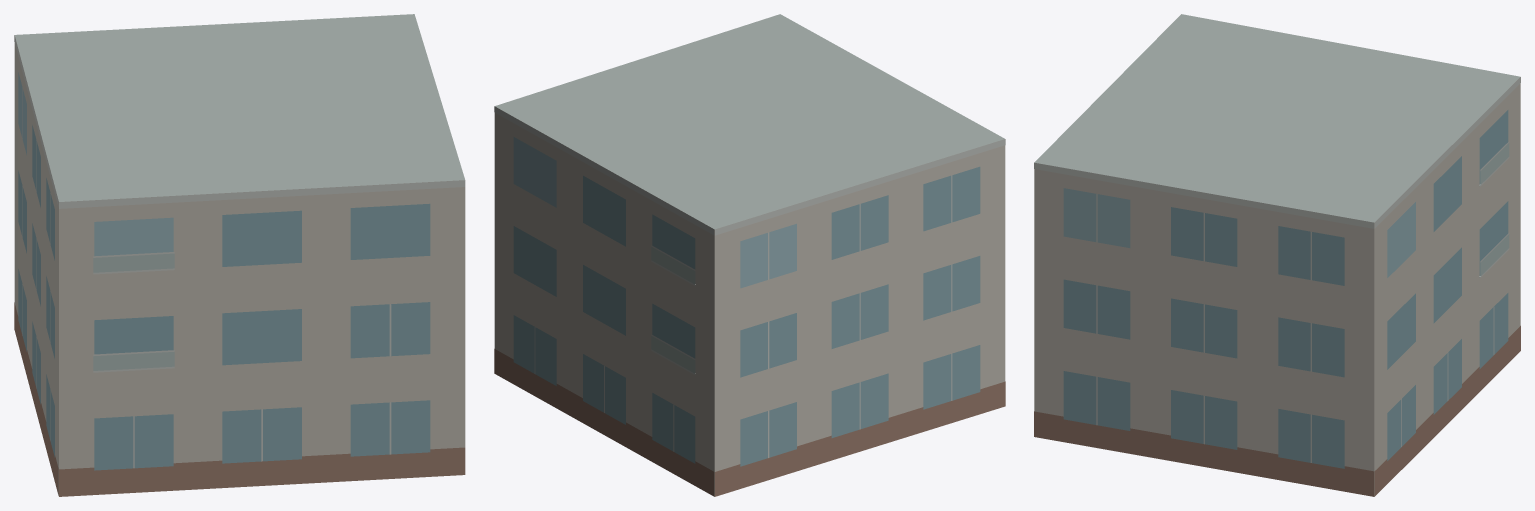
Rendered from survey-upis-32816463.glb.
3 renders of one model, left to right at view 1: azimuth 30°, elevation 25°; view 2: azimuth 150°, elevation 25°; view 3: azimuth 270°, elevation 25°, orthographic. The views are drawn at different scales.
Parts seen in each view (by area): view 1: survey-upis-32816463.tmp; view 2: survey-upis-32816463.tmp; view 3: survey-upis-32816463.tmp.
Boxes of the visible parts, bbox=[...] form: survey-upis-32816463.tmp: bbox=[14, 14, 465, 496]; survey-upis-32816463.tmp: bbox=[494, 14, 1005, 496]; survey-upis-32816463.tmp: bbox=[1034, 14, 1520, 496].
Size of the model in its own units: 17.14 by 10.5 by 16.89.
